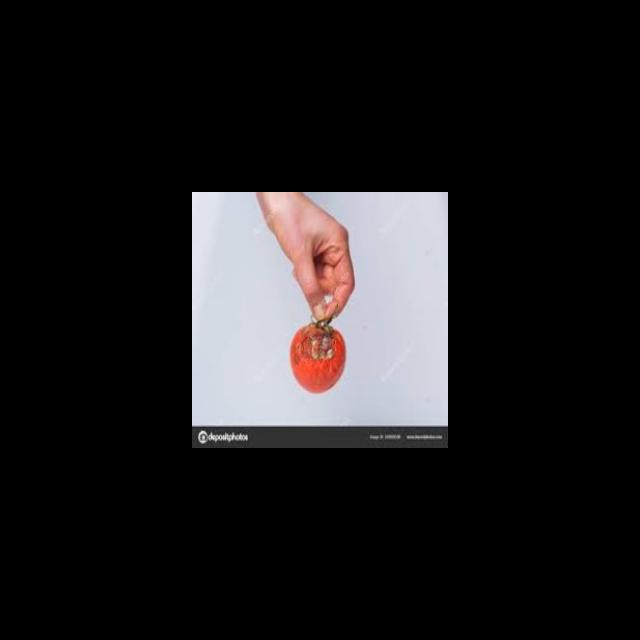tomato: (287, 318, 353, 396)
